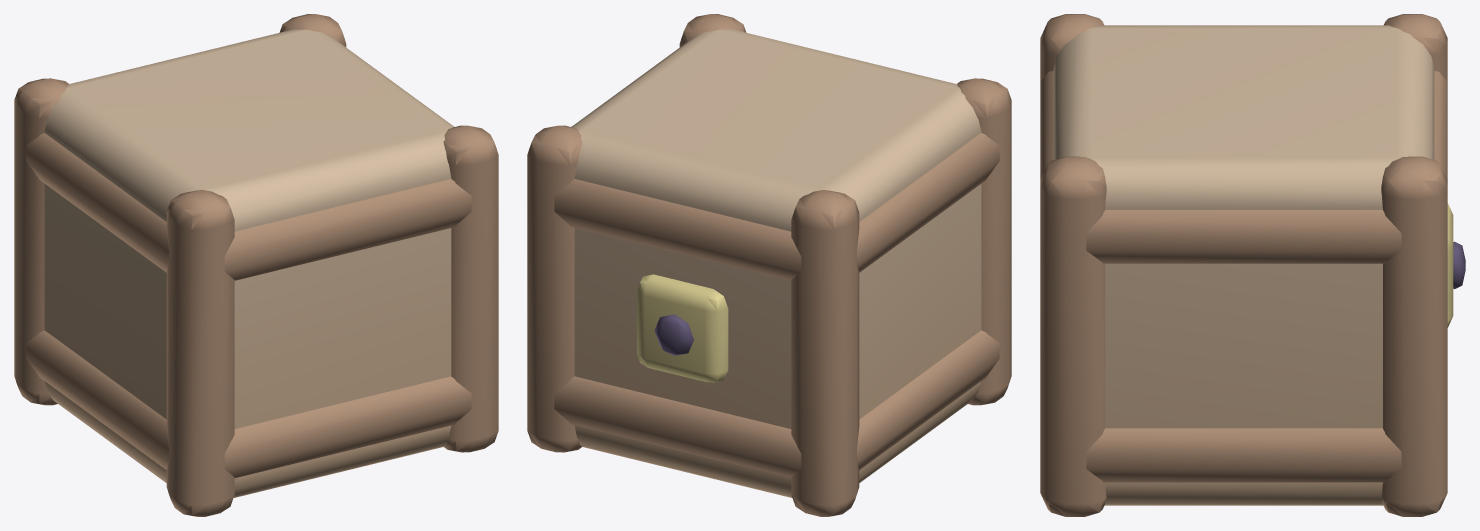
Rendered from crate.glb.
3 views of the same model, side by side, from view 1: azimuth 30°, elevation 25°; view 2: azimuth 150°, elevation 25°; view 3: azimuth 270°, elevation 25° (orthographic). The views are drawn at different scales.
Parts seen in each view (by area): view 1: Body; view 2: Body; view 3: Body.
Part boxes in pixels (<box>): Body: <box>14,14,498,516</box>; Body: <box>527,14,1011,516</box>; Body: <box>1040,14,1465,516</box>.
Bounding box in the file's own units: 3.21 × 3.05 × 3.35.
